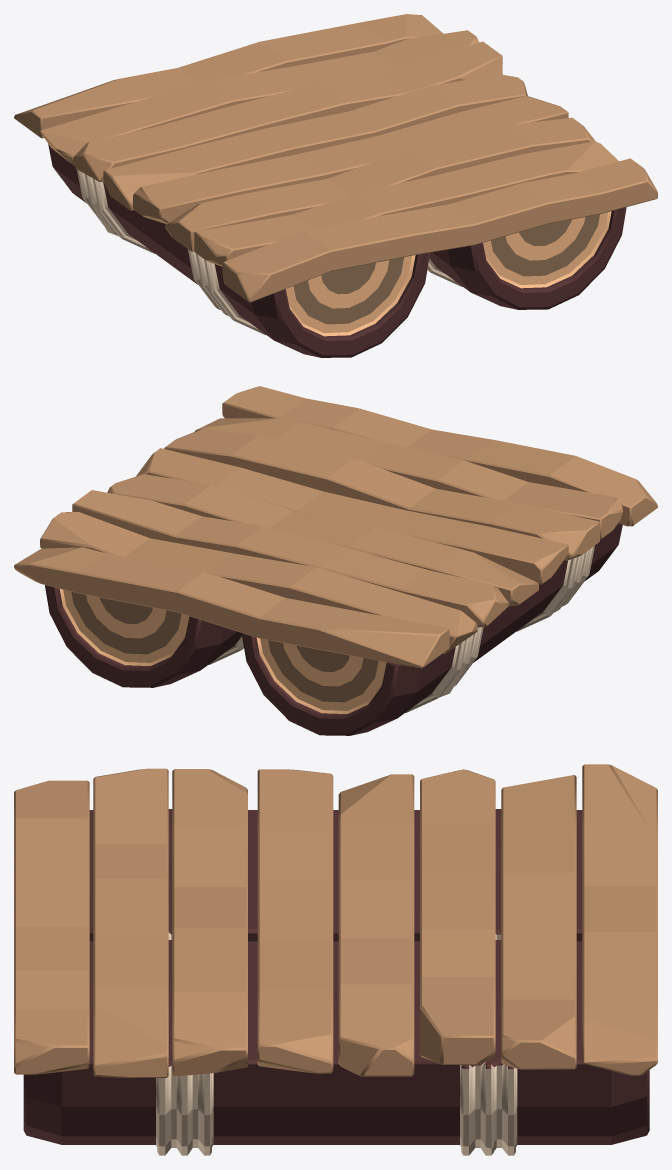
Rendered from Raft.fbx.
3 renders of one model, top to bottom at view 1: azimuth 30°, elevation 25°; view 2: azimuth 150°, elevation 25°; view 3: azimuth 270°, elevation 25°, orthographic. The views are drawn at different scales.
Visible parts, largest first — view 1: Raft; view 2: Raft; view 3: Raft.
Part boxes in pixels (box(x1,y1,x2,y2)): Raft: box(14, 14, 657, 357); Raft: box(14, 386, 657, 735); Raft: box(14, 764, 657, 1155).
Bounding box in the file's own units: 201 × 59.35 × 197.
